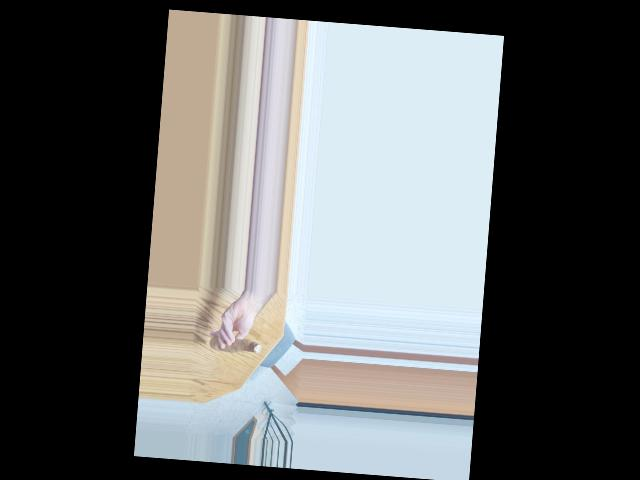sweet_potato: (212, 333, 258, 358)
